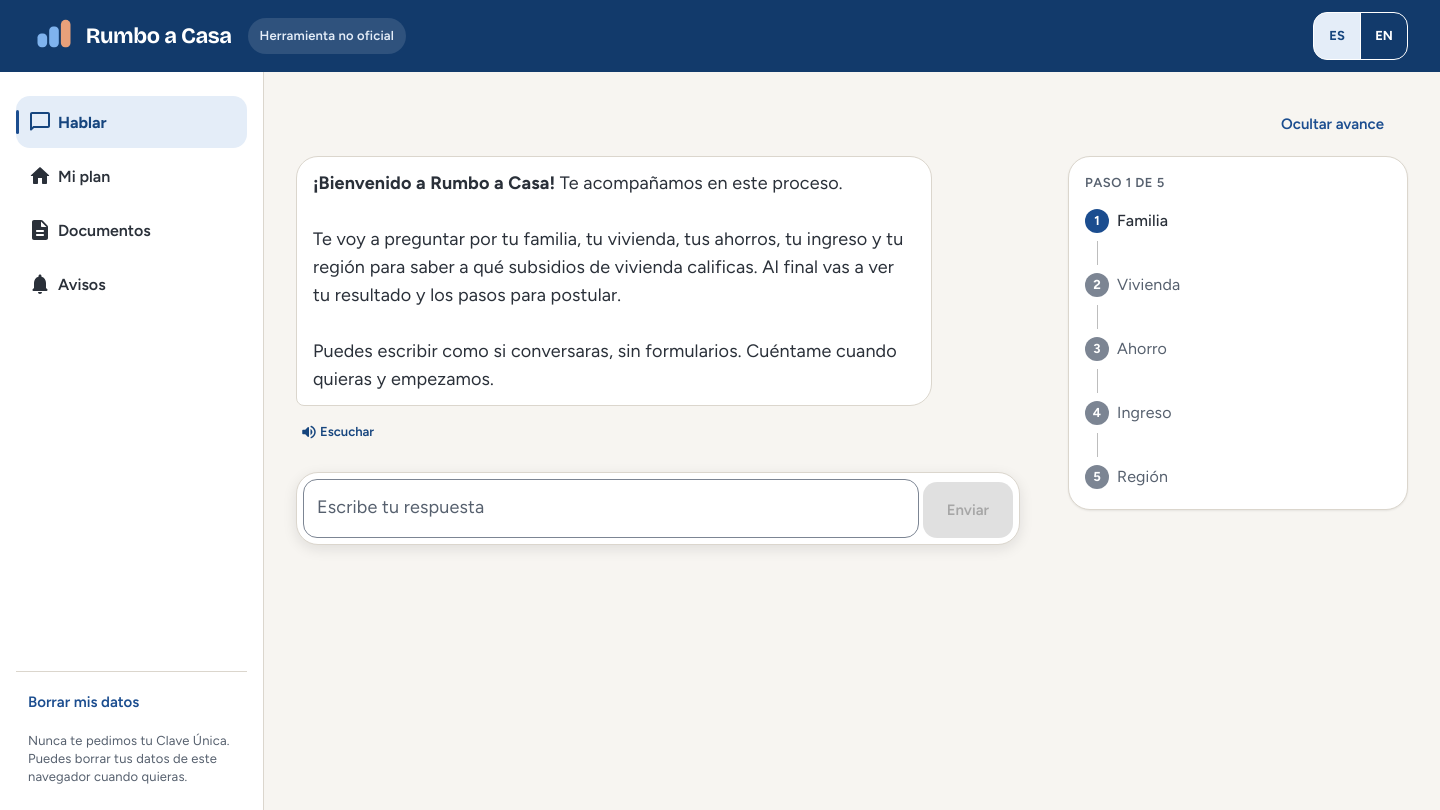
PantallaEntrevista › muestra el mensaje de bienvenida mientras la conversación está vacía, y desaparece al enviar el primer mensaje
expect the text "¡Bienvenido a Rumbo a Casa!" is shown: met, box [313,172,555,194]
expect the text "Cuéntame cuando quieras y empezamos" is shown: met, box [313,172,903,390]
In the field labelled "Escribe tu respuesta": (611, 508) [303,479,919,538], type "Hola"
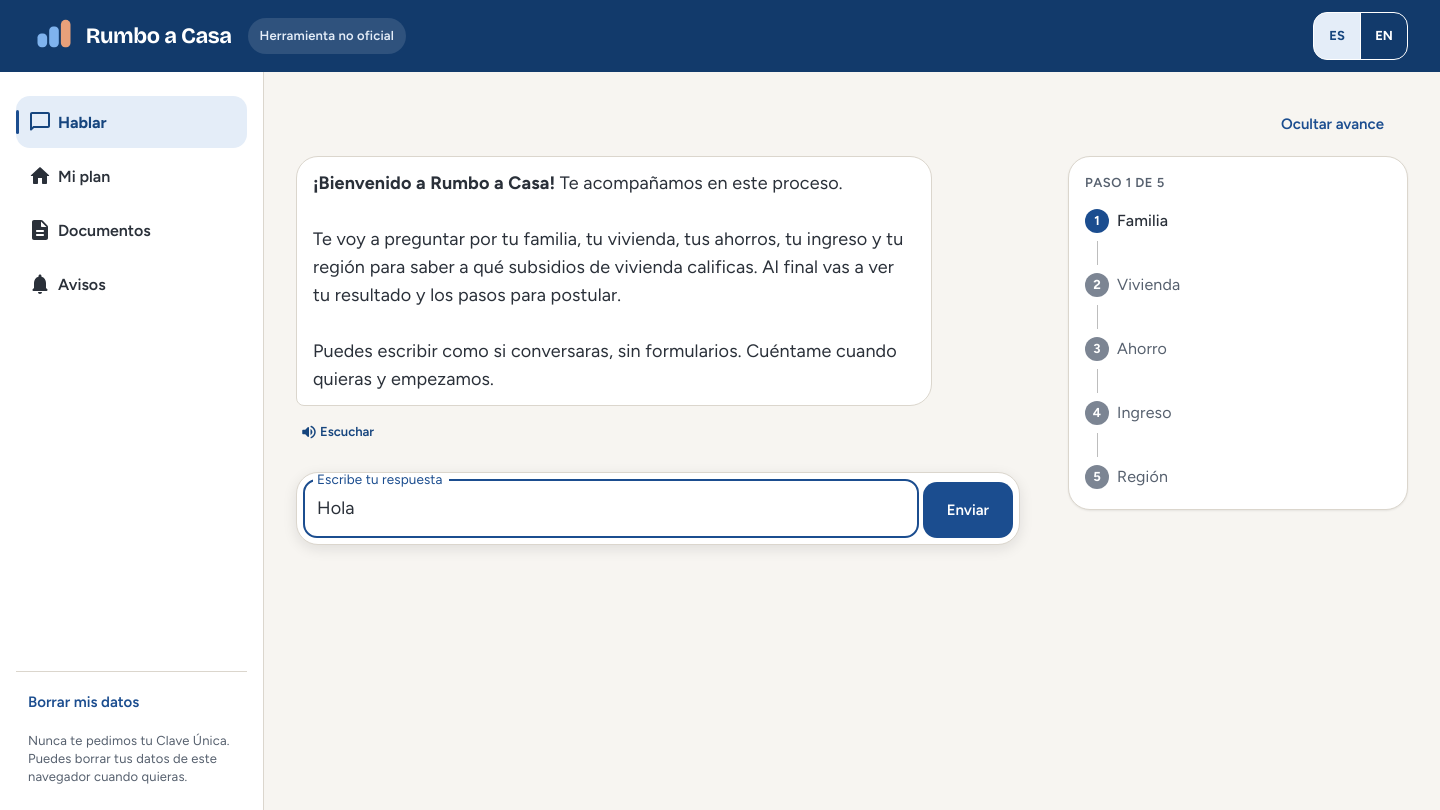
Click the button "Enviar": (968, 510) [923,482,1013,538]
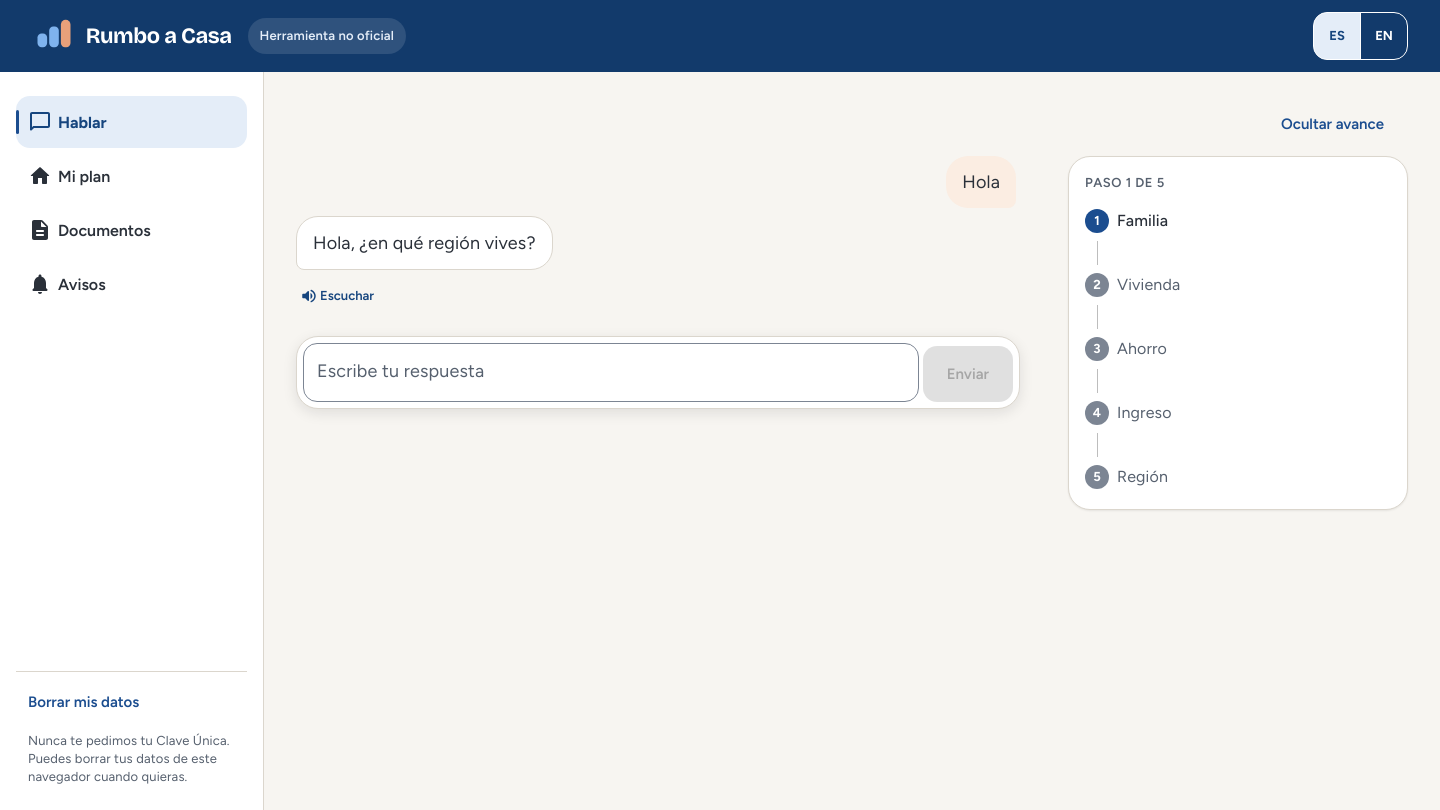
expect the text "Hola, ¿en qué región vives?" is shown: met, box [313,229,536,257]
expect the text "¡Bienvenido a Rumbo a Casa!" is gone: met
